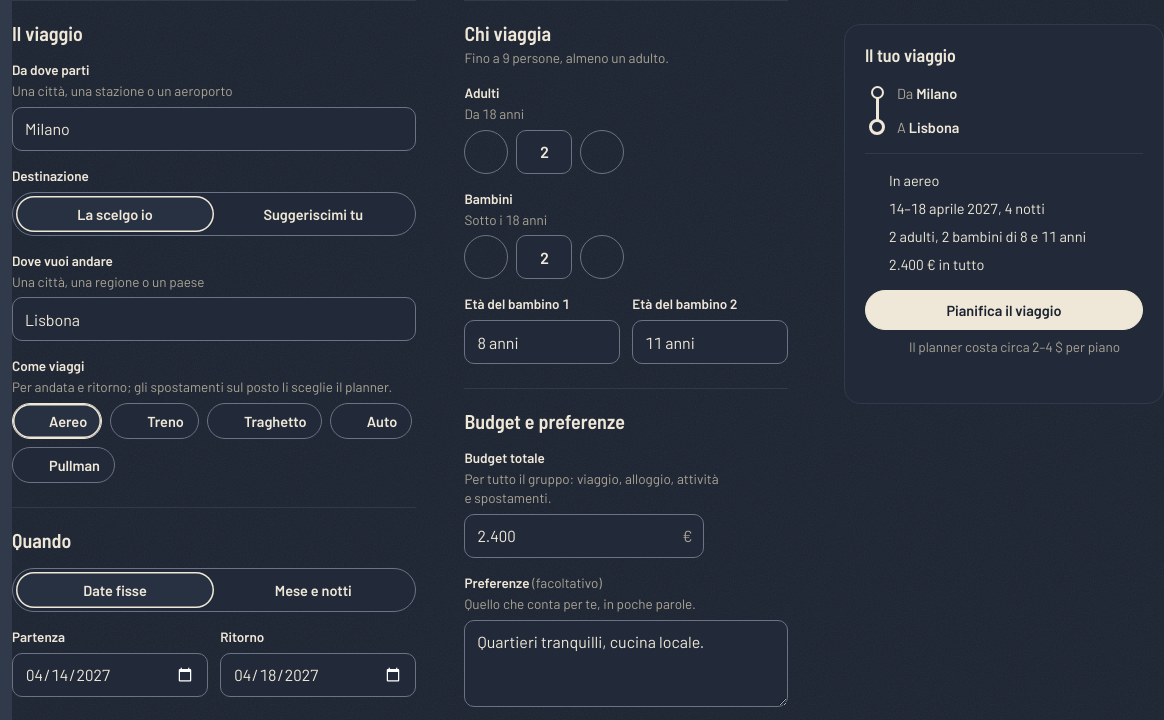
RequestForm › says clearly why the plan did not start (0)
The width and height of the screenshot is (1164, 720).
Click the button "Pianifica il viaggio": (1004, 310) [865,290,1143,330]
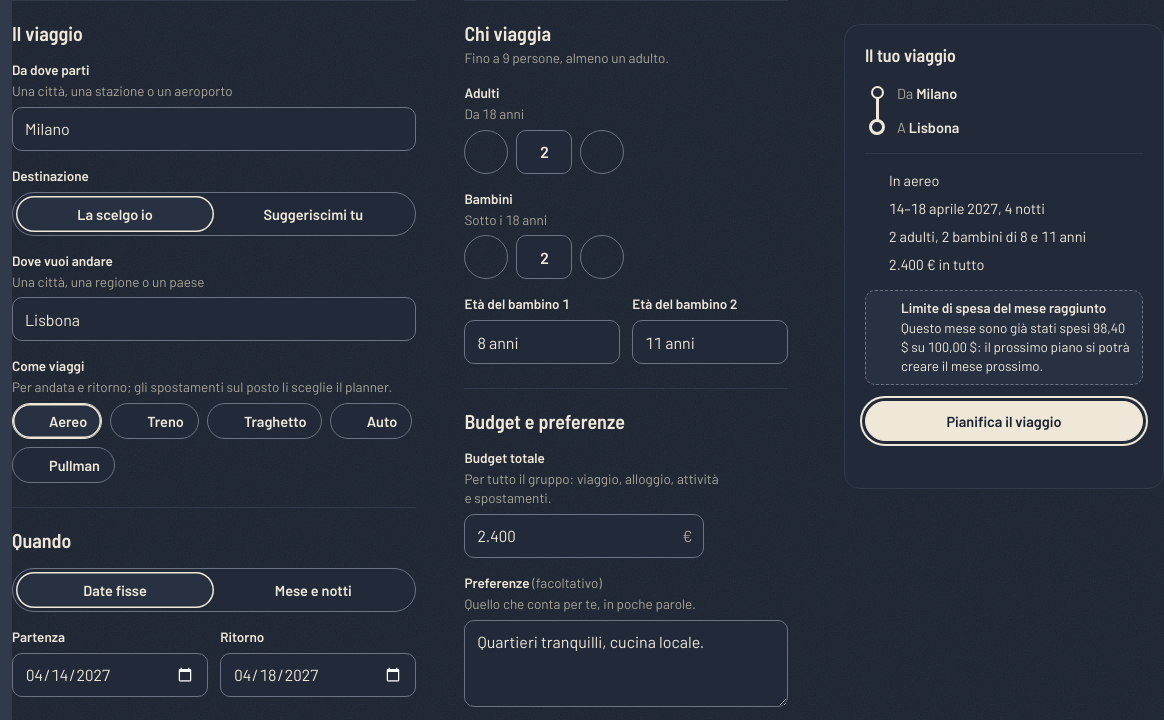
Expected: the message shows "Limite di spesa del mese raggiunto", [901,299,1106,316]
Expected: the message shows "98,40 $ su 100,00 $", [901,320,1130,374]
Expected: the element with id "submit-plan-estimate" is gone
